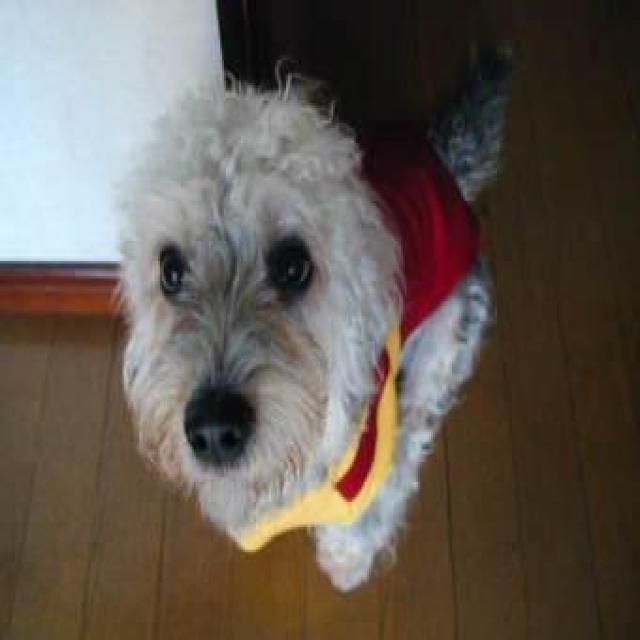dandie_dinmont: (115, 55, 510, 592)
